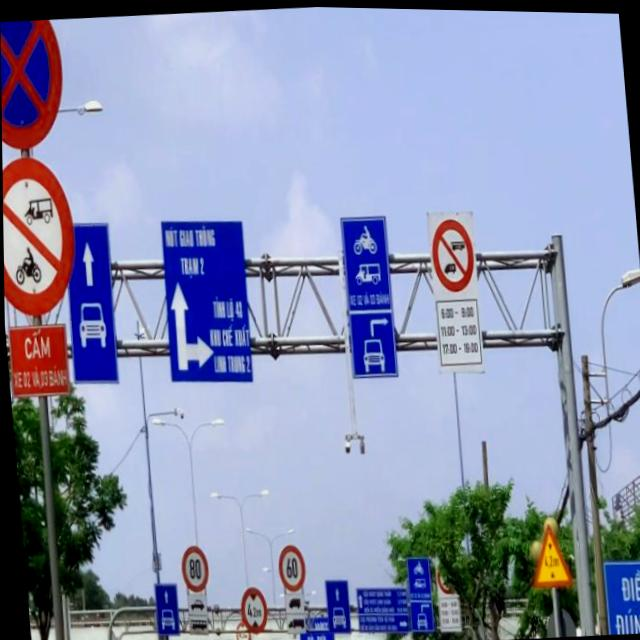Cam dung xe va do xe: (0, 17, 69, 153)
Chieu cao an toan: (525, 518, 571, 586)
Han che chieu cao: (237, 584, 267, 634), (233, 620, 249, 640)
Toc do toi da cho phep: (177, 542, 208, 593), (275, 541, 305, 591)
